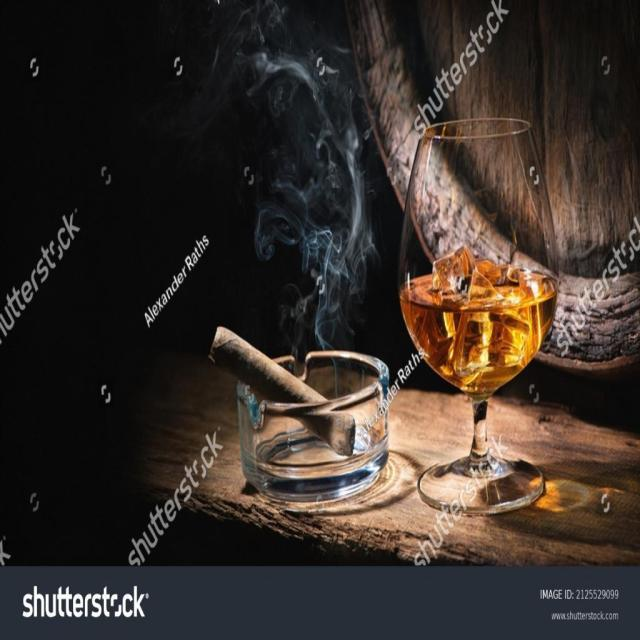smoking: (199, 323, 328, 428), (295, 407, 359, 457)
